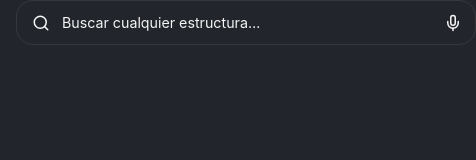
Test: Búsqueda global de catálogo › muestra vacío, respuesta inválida y aborta peticiones anteriores
In the dropdown: [244, 22] box [60,13,427,32], type "masetero"
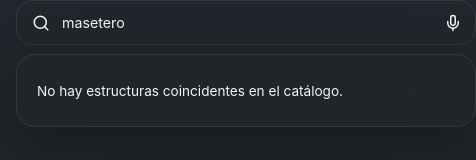
expect the text "No hay estructuras coincidentes en el catálogo." is shown: met, box [37,83,343,99]
Replace the text in the dropdown with "scapula": [244, 22] box [60,13,427,32]
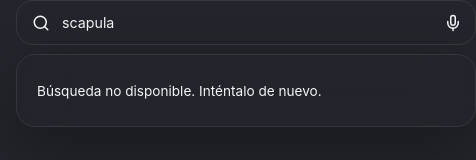
expect the text "Búsqueda no disponible. Inténtalo de nuevo." is shown: met, box [37,83,322,99]
